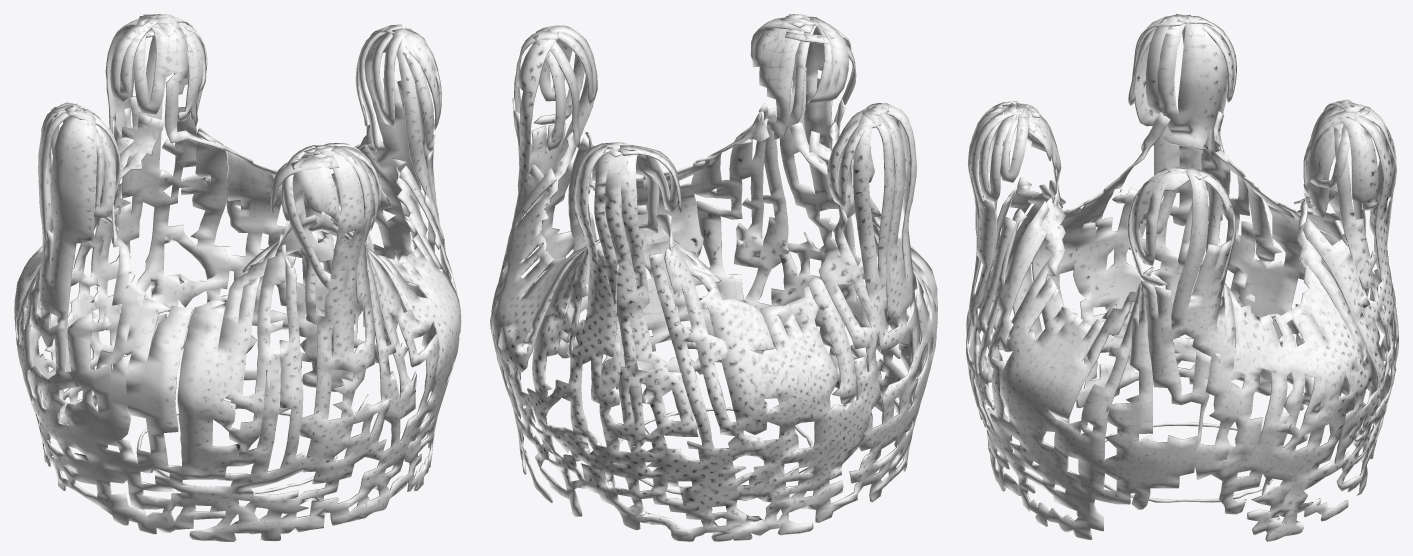
Rendered from concrete_building.glb.
3 renders of one model, left to right at view 1: azimuth 30°, elevation 25°; view 2: azimuth 150°, elevation 25°; view 3: azimuth 270°, elevation 25°, orthographic. The views are drawn at different scales.
Size of the model in its own units: 1.89 by 1.84 by 1.9.
1 material, 1 textured.
